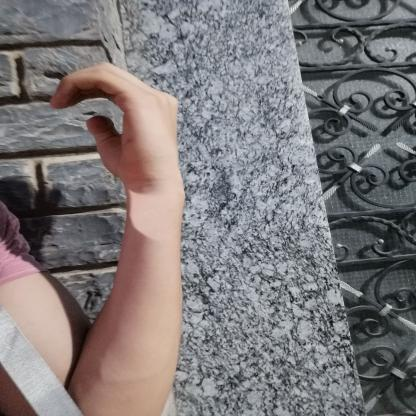JEEM: (36, 54, 198, 193)
